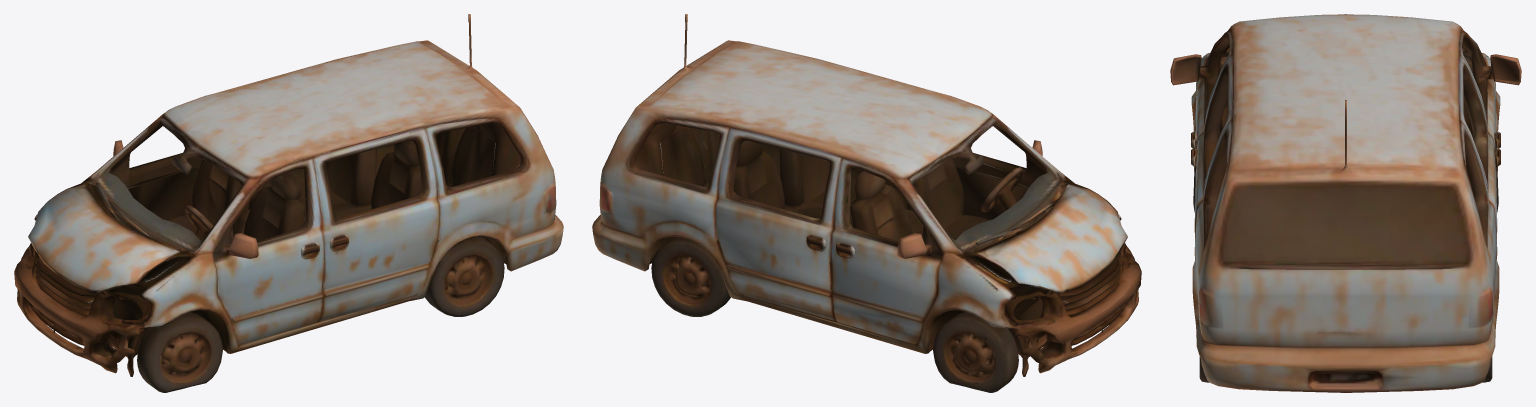
Rendered from BrokenRustyMinivan2.glb.
3 views of the same model, side by side, from view 1: azimuth 30°, elevation 25°; view 2: azimuth 150°, elevation 25°; view 3: azimuth 270°, elevation 25° (orthographic). The views are drawn at different scales.
Parts seen in each view (by area): view 1: BrokenRustyMinivan2; view 2: BrokenRustyMinivan2; view 3: BrokenRustyMinivan2.
Part boxes in pixels (x1,y1,x2,y2): BrokenRustyMinivan2: [14, 14, 563, 392]; BrokenRustyMinivan2: [592, 14, 1141, 392]; BrokenRustyMinivan2: [1170, 14, 1521, 392].
Size of the model in its own units: 1.14 by 0.5708 by 0.5753.
1 material, 1 textured.
